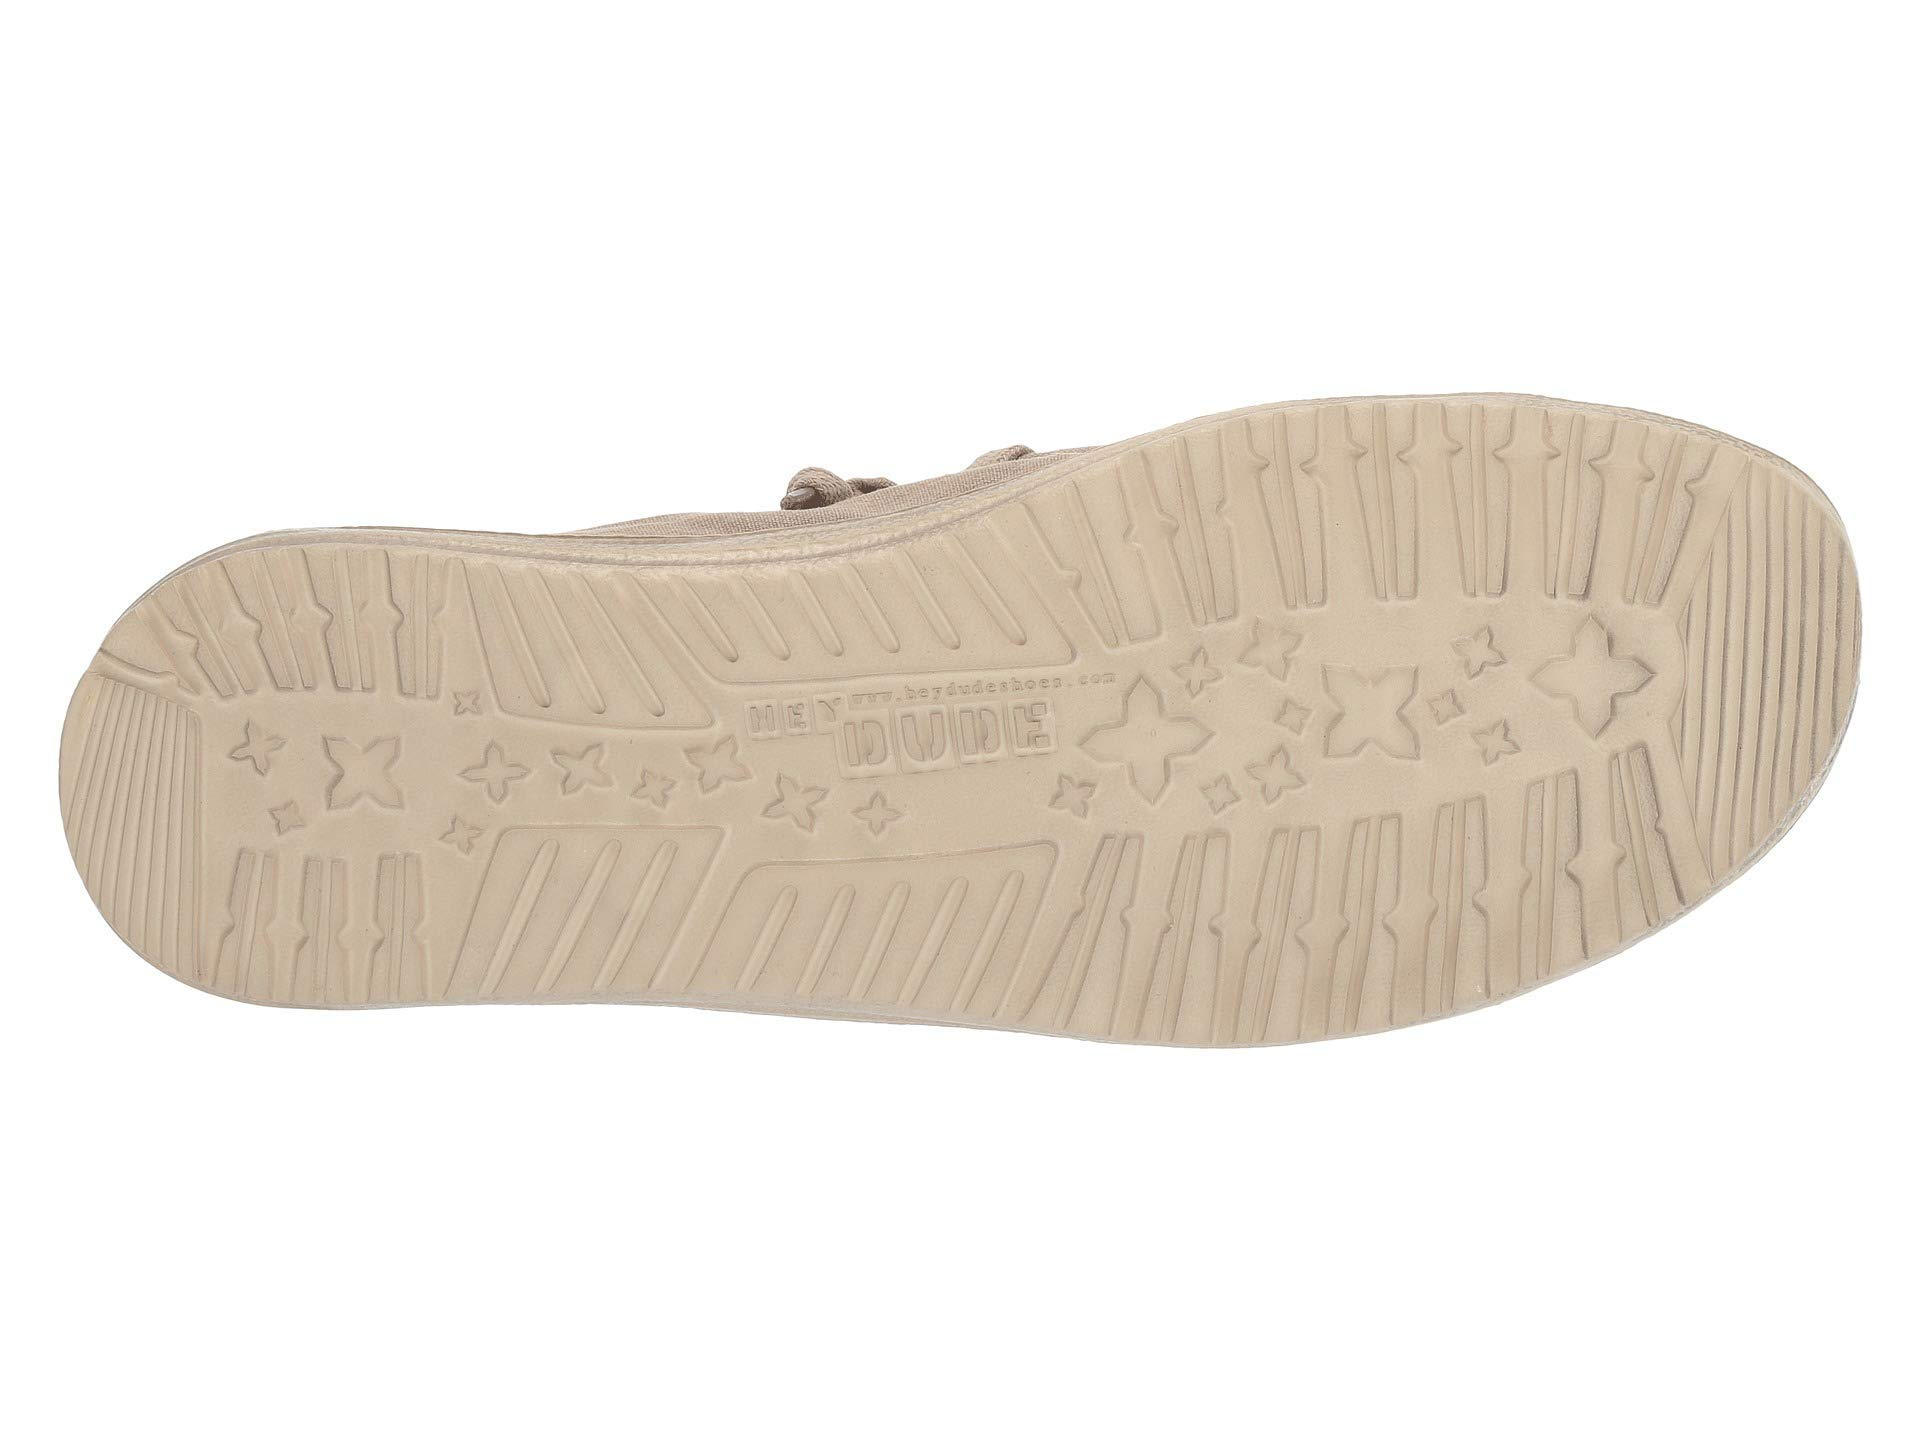bowtie: (206, 526, 537, 877), (1293, 765, 1593, 1048), (1504, 368, 1730, 635)
line: (550, 843, 786, 1029), (546, 650, 741, 838)
star: (206, 526, 537, 877), (760, 644, 1063, 871), (1067, 604, 1281, 846), (1281, 616, 1516, 793), (546, 650, 741, 838), (1534, 593, 1663, 740)
text: (760, 644, 1063, 871)
